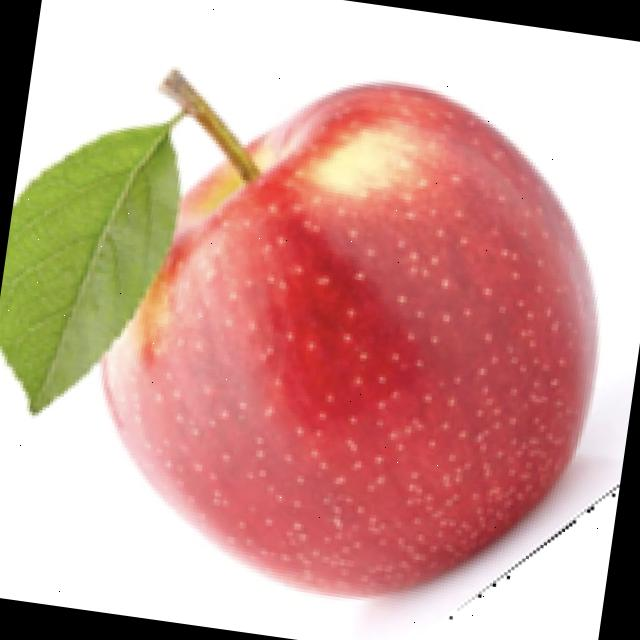apple: (0, 63, 620, 631)
